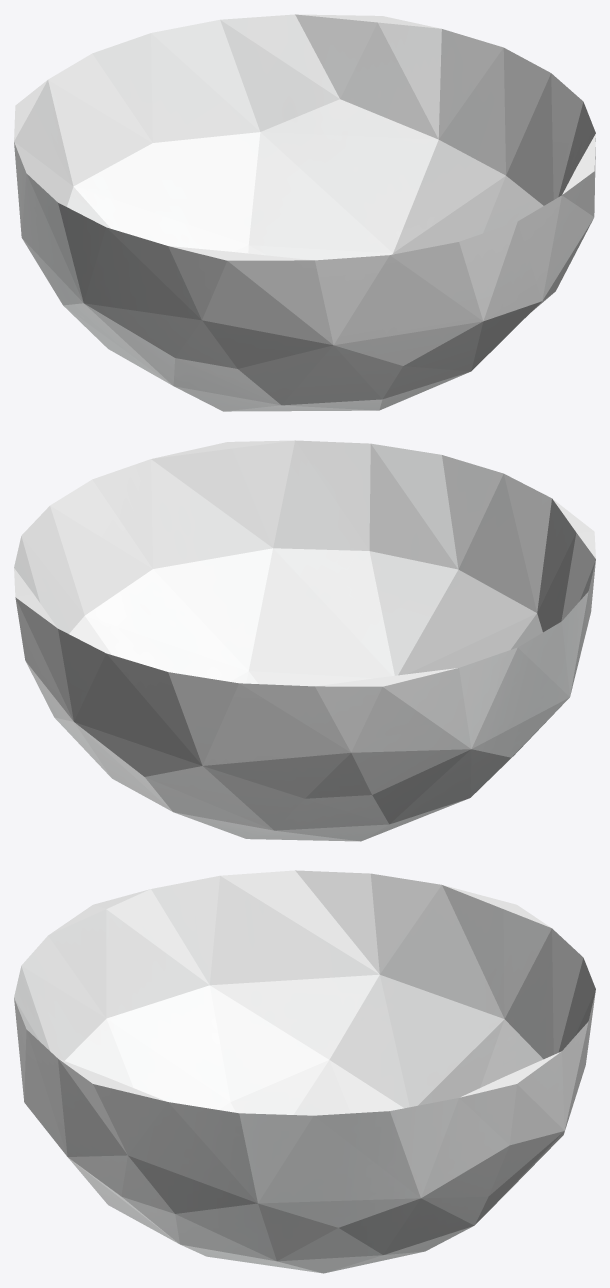
Rendered from bowl2_2.dae.
3 views of the same model, one above another, from view 1: azimuth 30°, elevation 25°; view 2: azimuth 150°, elevation 25°; view 3: azimuth 270°, elevation 25° (orthographic).
Parts seen in each view (by area): view 1: node; view 2: node; view 3: node.
Part boxes in pixels (bbox=[...]): node: bbox=[14, 14, 595, 411]; node: bbox=[14, 440, 595, 841]; node: bbox=[14, 870, 595, 1273].
Bounding box in the file's own units: 0.2574 × 0.107 × 0.2582.
Materials: 1 (1 with a texture image).
